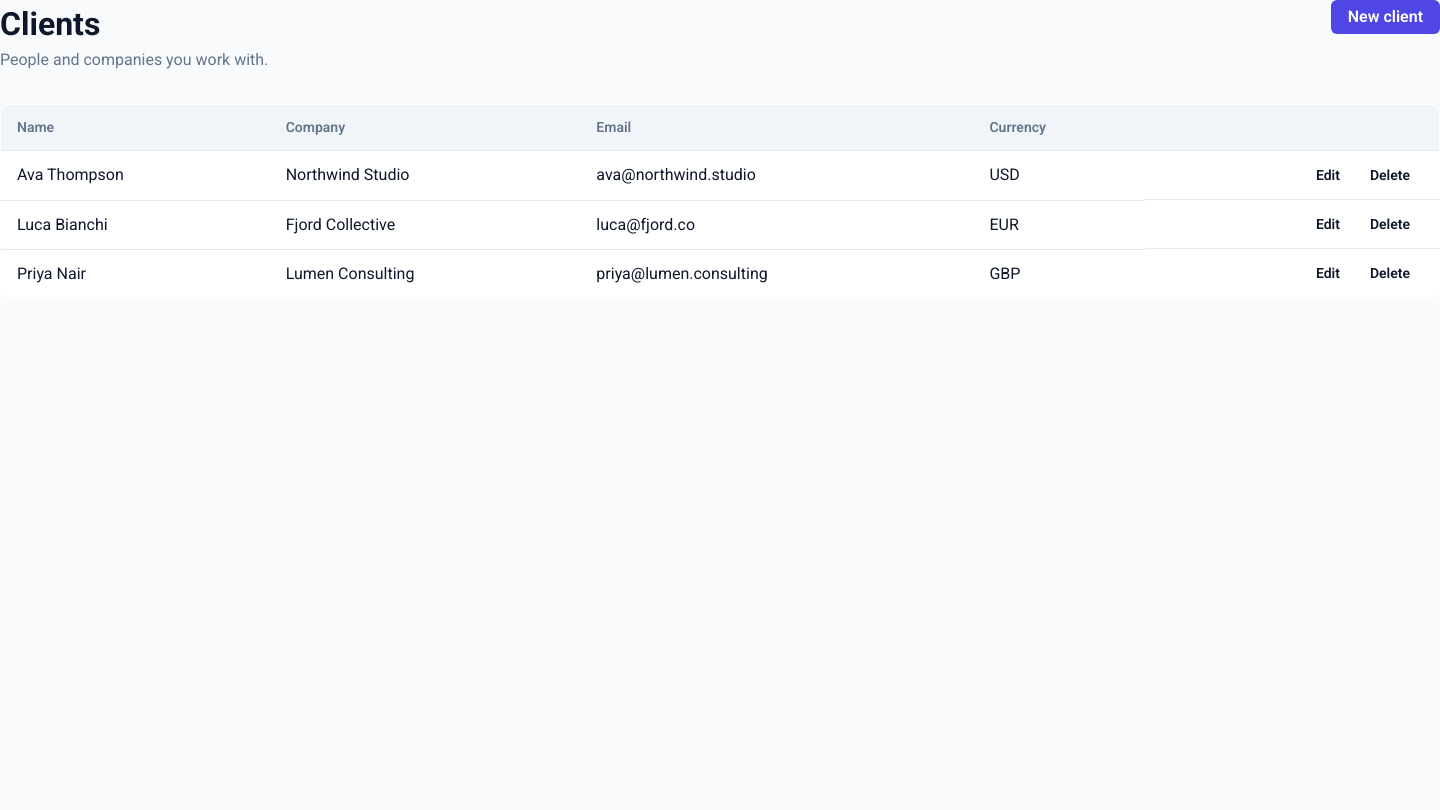
Test: ClientsPage — editing › prefills the form and sends only the fields that changed
The image size is (1440, 810).
expect the text "Northwind Studio" is shown: met, box [270,151,580,200]
Click the button with aria-label "Edit Luca Bianchi" at (1328, 224), box [1303,212,1353,236]
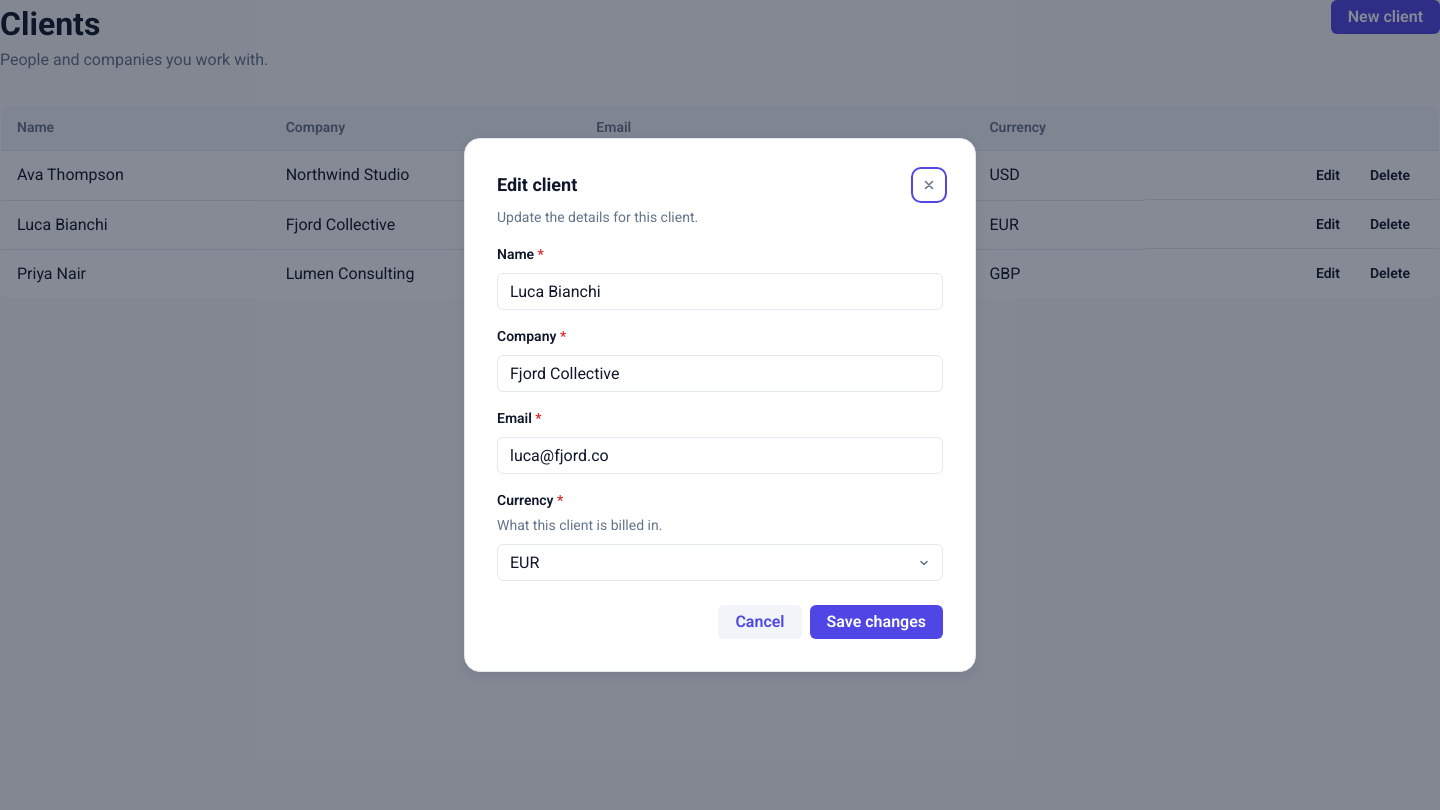
expect the field labelled "Company" holds "Fjord Collective": met
expect the field labelled "Email" holds "luca@fjord.co": met, box [497,437,943,474]
Replace the text in the field labelled "Company" with "Fjord Studio" at (720, 374), box [497,355,943,392]
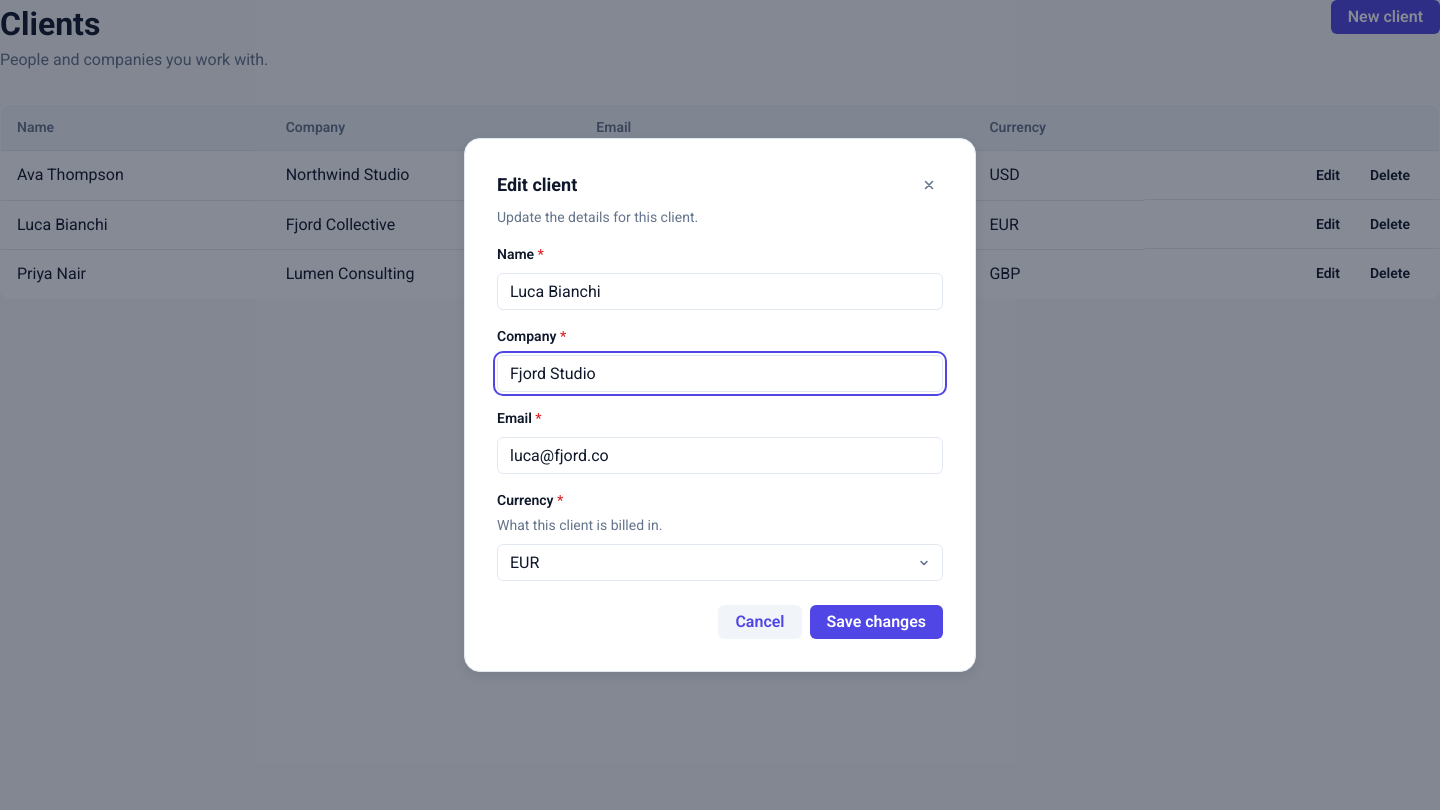
Click the button "Save changes" at (876, 622), box [810,605,943,639]
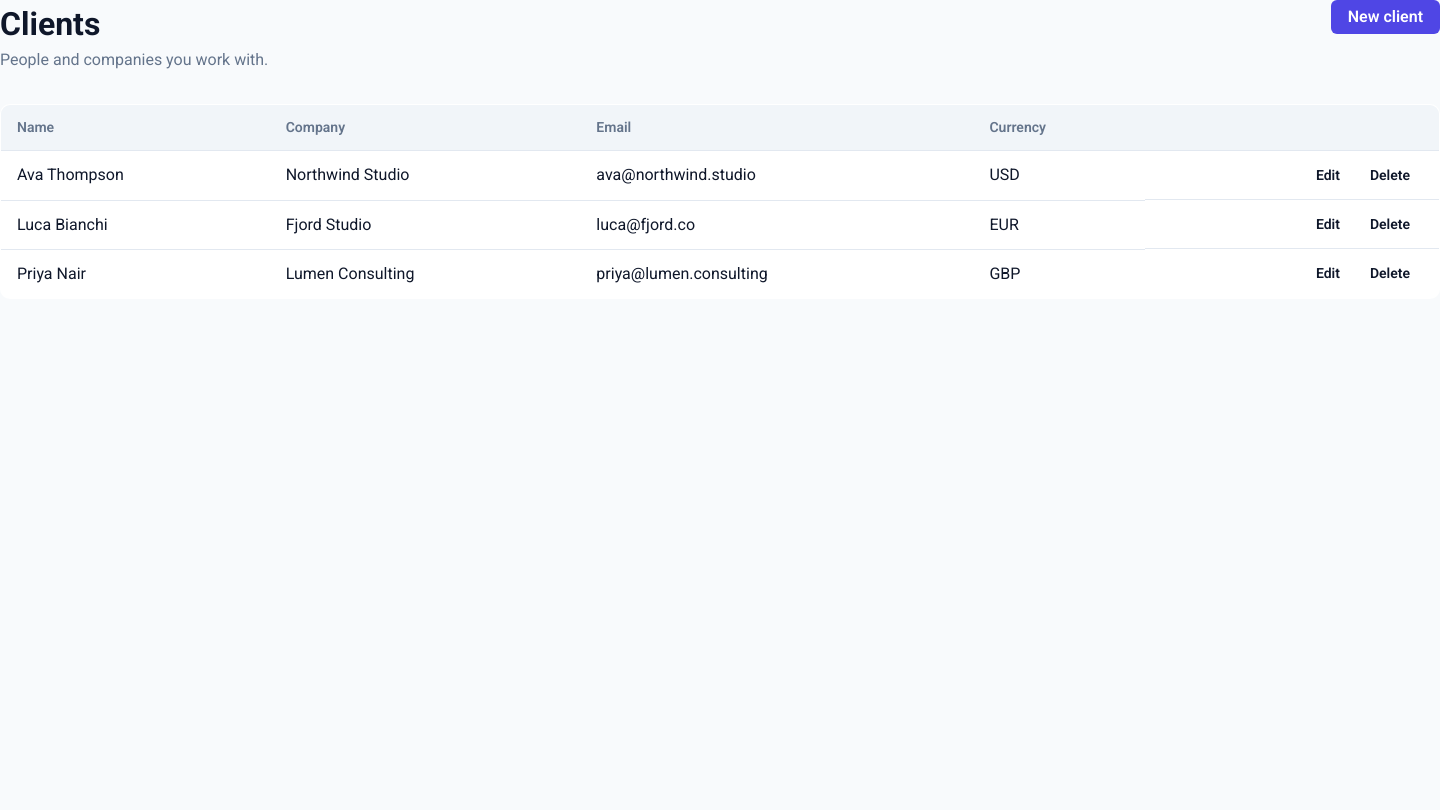
expect the text "Fjord Studio" is shown: met, box [270,200,580,249]
